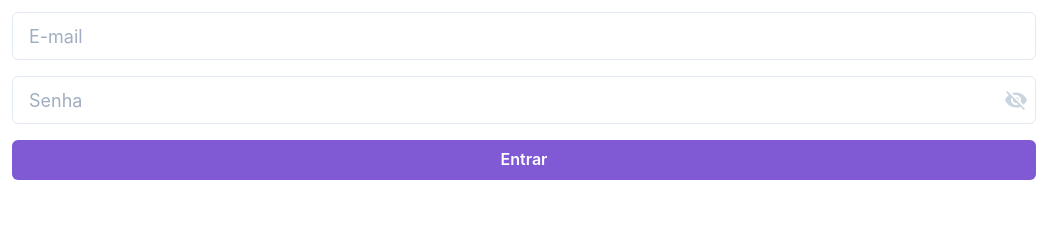
Test: SignInForm component › should render error message when email is invalid and missing password
Type "renangmail.com" into the field labelled "E-mail".
click(524, 36); type("renangmail.com")  # box [12, 12, 1036, 60]
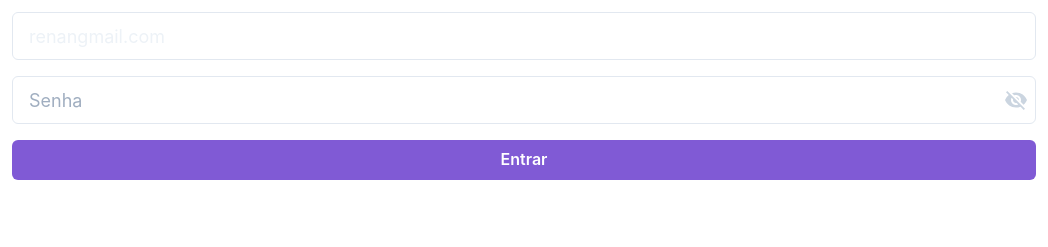
Submit the form from the button "Entrar", box [12, 140, 1036, 180]
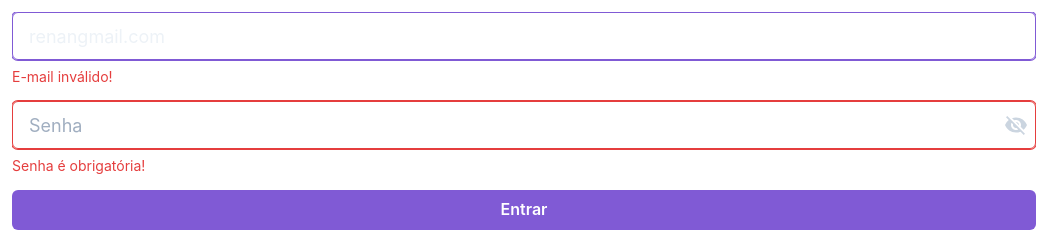
Now the text "E-mail inválido!" is shown, box [12, 68, 113, 85]
Now the text "Senha é obrigatória!" is shown, box [12, 157, 145, 174]
